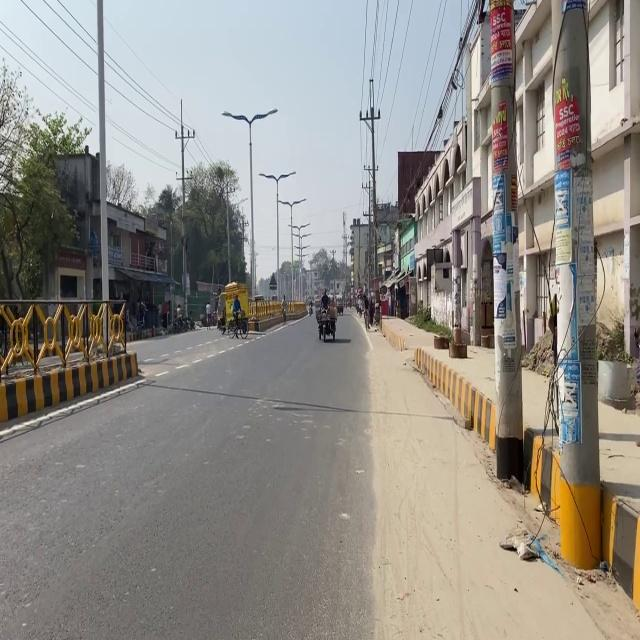Construction-barrier: (0, 373, 146, 442), (411, 345, 497, 450)
Fallen-tree: (315, 307, 337, 342), (225, 310, 249, 339)
Light-pole: (550, 0, 601, 569), (487, 0, 524, 481), (95, 0, 110, 349)
Pole: (0, 294, 176, 430)
Pothole: (360, 310, 639, 638)
Traffic-cone: (216, 281, 251, 330)
